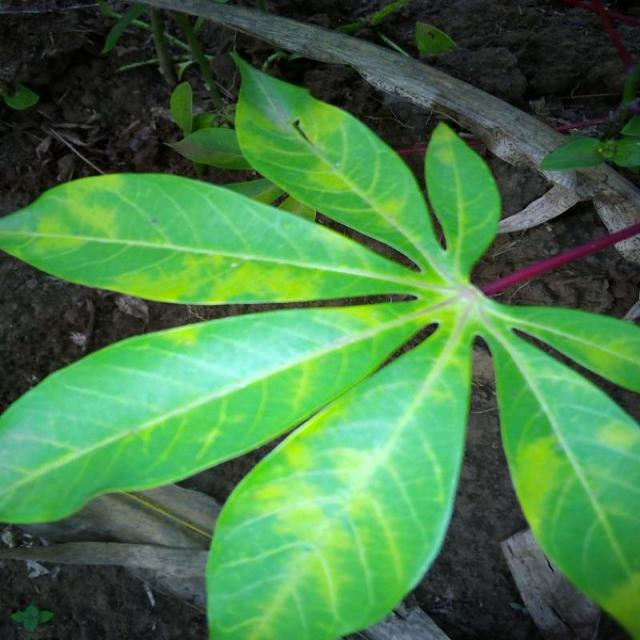cassava leaf: (0, 51, 638, 637), (0, 299, 438, 526), (204, 321, 473, 638), (0, 170, 438, 305), (481, 302, 639, 637)
